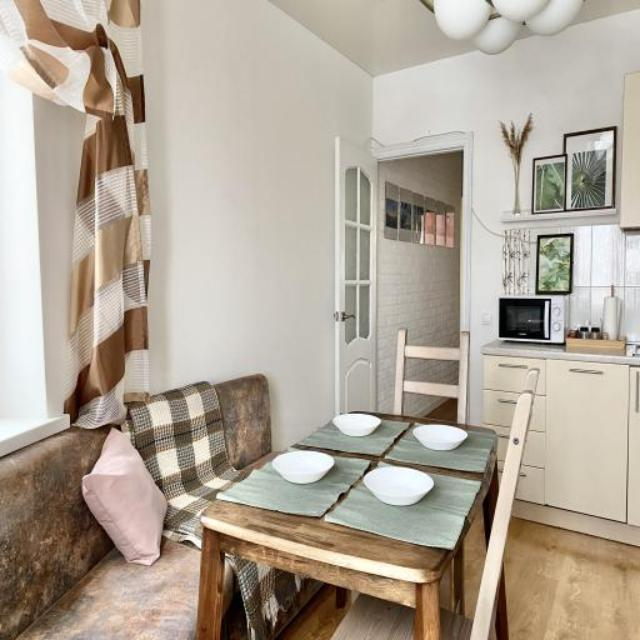Microwave: (498, 296, 572, 346)
